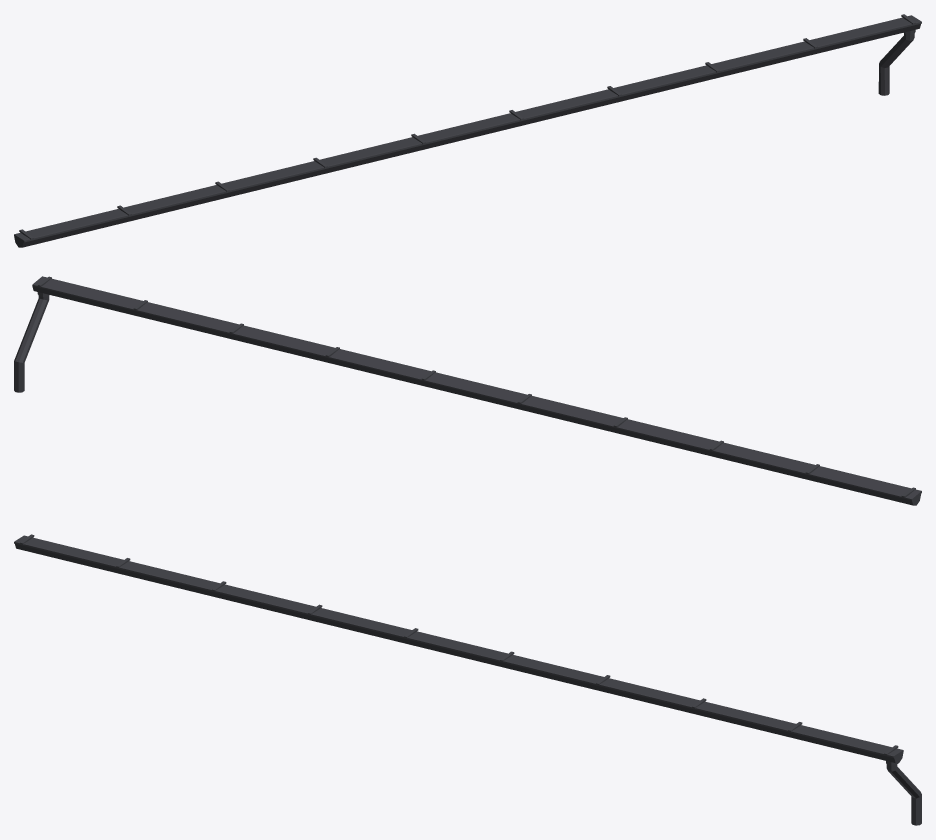
The model's file is SM_Fixture_GutterShedFront_546_01.gltf.
3 renders of one model, top to bottom at view 1: azimuth 30°, elevation 25°; view 2: azimuth 150°, elevation 25°; view 3: azimuth 330°, elevation 25°, orthographic. The views are drawn at different scales.
Parts seen in each view (by area): view 1: SM_Fixture_GutterShedFront_546_01; view 2: SM_Fixture_GutterShedFront_546_01; view 3: SM_Fixture_GutterShedFront_546_01.
Boxes of the visible parts, bbox=[...] form: SM_Fixture_GutterShedFront_546_01: bbox=[14, 14, 921, 247]; SM_Fixture_GutterShedFront_546_01: bbox=[14, 276, 921, 505]; SM_Fixture_GutterShedFront_546_01: bbox=[14, 534, 921, 825].
Bounding box in the file's own units: 5.68 × 0.565 × 0.3677.
Materials: 1 (1 with a texture image).
